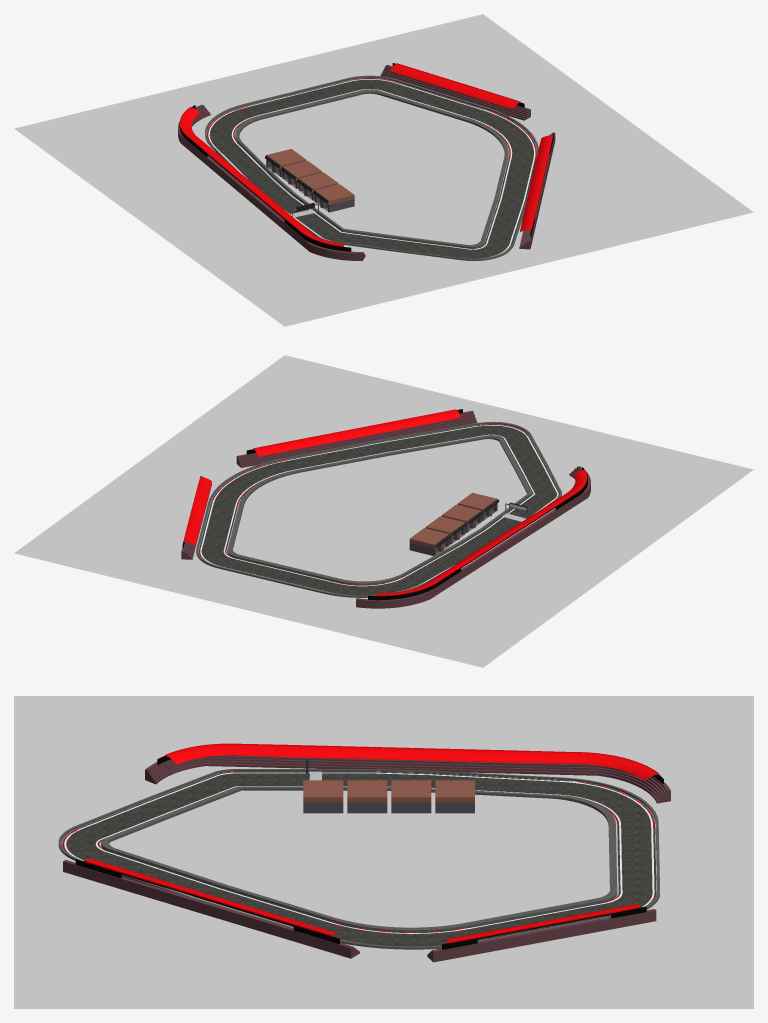
Rendered from Circuit.fbx.
3 renders of one model, top to bottom at view 1: azimuth 30°, elevation 25°; view 2: azimuth 150°, elevation 25°; view 3: azimuth 270°, elevation 25°, orthographic. The views are drawn at different scales.
Visible parts, largest first — view 1: Plane.001, Plane, Plane.002, Cube.001, Cube, Cube.003, Cube.002; view 2: Plane.001, Plane, Plane.002, Cube.001, Cube.002, Cube, Cube.003; view 3: Plane.001, Plane, Cube.001, Plane.002, Cube.002, Cube, Cube.003.
Part boxes in pixels (x1=…): Plane.001: x1=14, y1=14, x2=753, y2=326; Plane: x1=207, y1=78, x2=536, y2=258; Plane.002: x1=205, y1=75, x2=538, y2=260; Cube.001: x1=178, y1=104, x2=365, y2=260; Cube: x1=265, y1=149, x2=354, y2=212; Cube.003: x1=380, y1=63, x2=530, y2=120; Cube.002: x1=519, y1=132, x2=555, y2=249; Plane.001: x1=14, y1=355, x2=753, y2=667; Plane: x1=198, y1=424, x2=559, y2=595; Plane.002: x1=196, y1=421, x2=561, y2=597; Cube.001: x1=356, y1=466, x2=590, y2=608; Cube.002: x1=236, y1=409, x2=476, y2=467; Cube: x1=409, y1=492, x2=499, y2=555; Cube.003: x1=181, y1=476, x2=211, y2=559; Plane.001: x1=14, y1=696, x2=753, y2=1008; Plane: x1=62, y1=771, x2=656, y2=946; Cube.001: x1=145, y1=743, x2=670, y2=803; Plane.002: x1=58, y1=769, x2=659, y2=949; Cube.002: x1=63, y1=858, x2=359, y2=958; Cube: x1=303, y1=780, x2=474, y2=813; Cube.003: x1=427, y1=904, x2=656, y2=962.
Bounding box in the file's own units: 77355 × 2105 × 77355.
